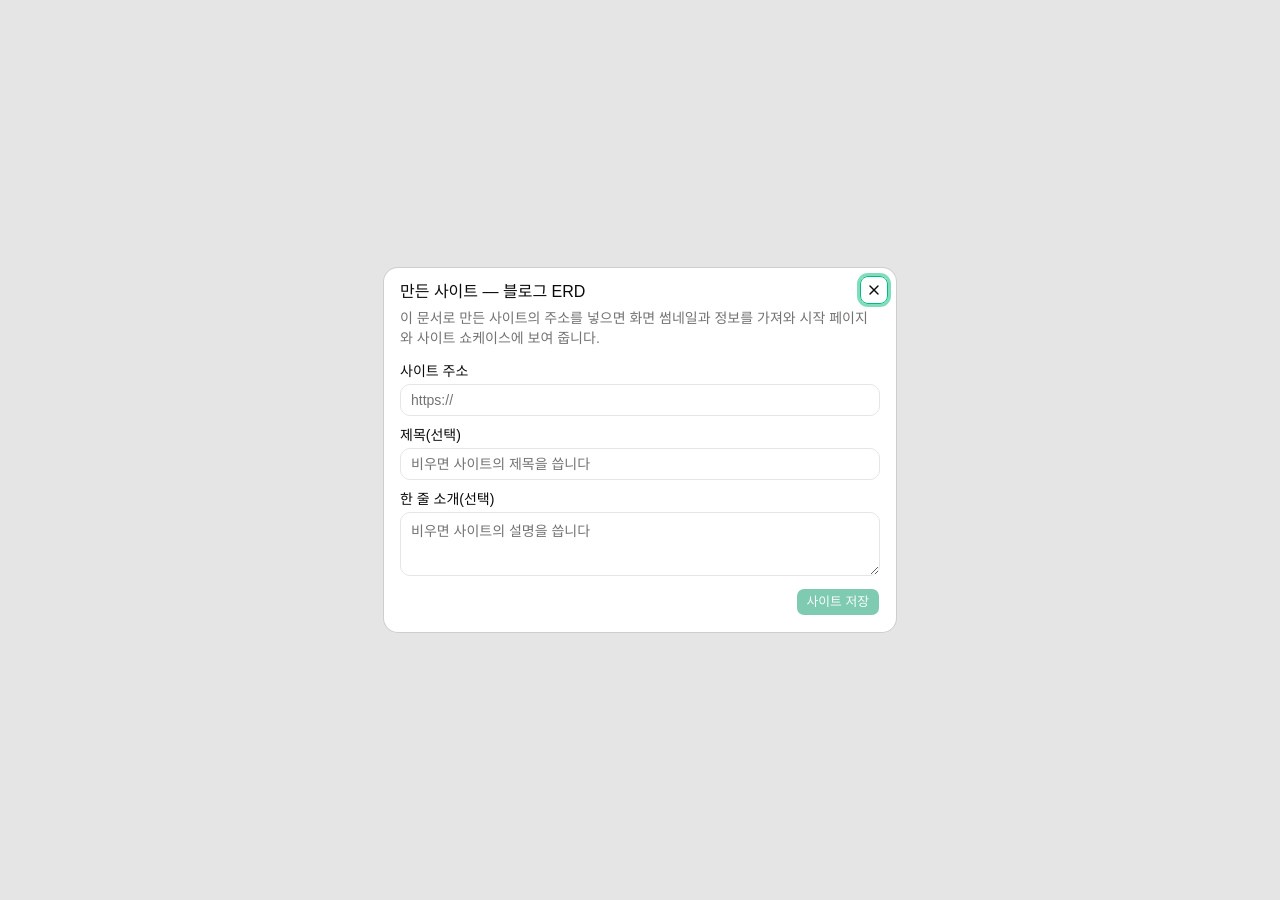
만든 사이트 칸 › 서버 입력 검증 오류(INVALID_REQUEST)는 짚은 칸에 붙인다
In the field labelled "사이트 주소": (640,400) [400, 384, 880, 416], type "https://blog.example.com"
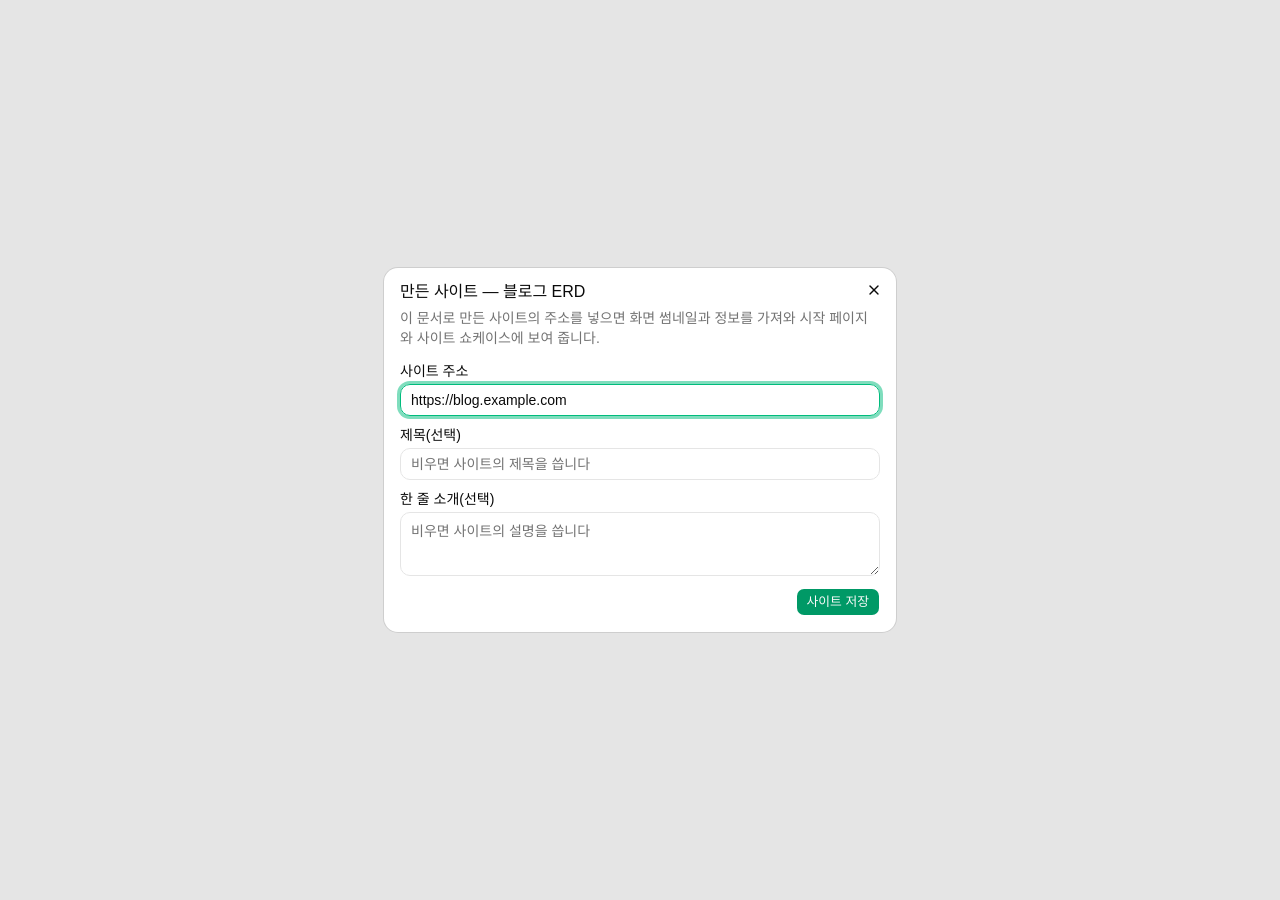
In the field labelled "제목(선택)": (640,464) [400, 448, 880, 480], type "제목"
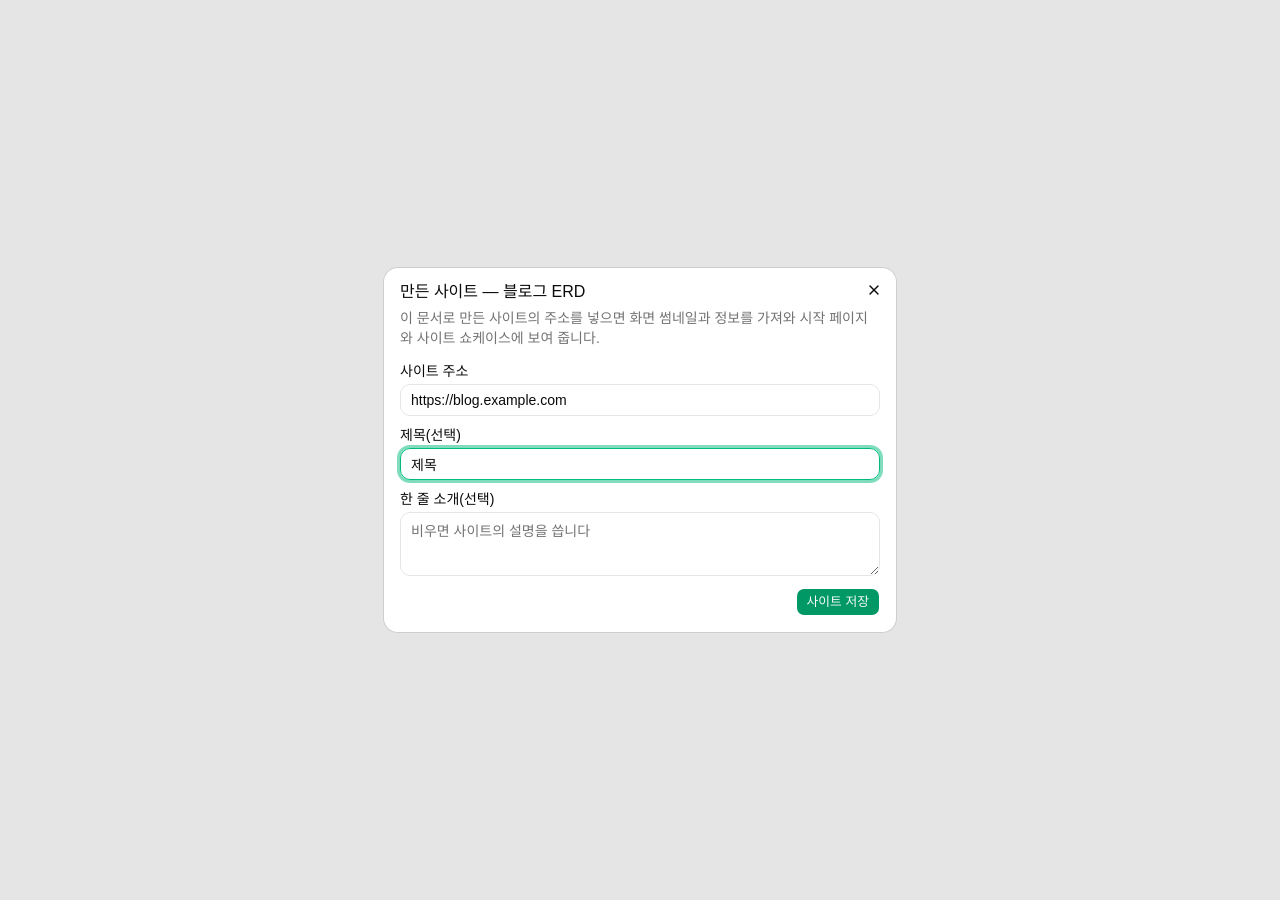
Click the button "사이트 저장": (838,602) [796, 588, 880, 616]
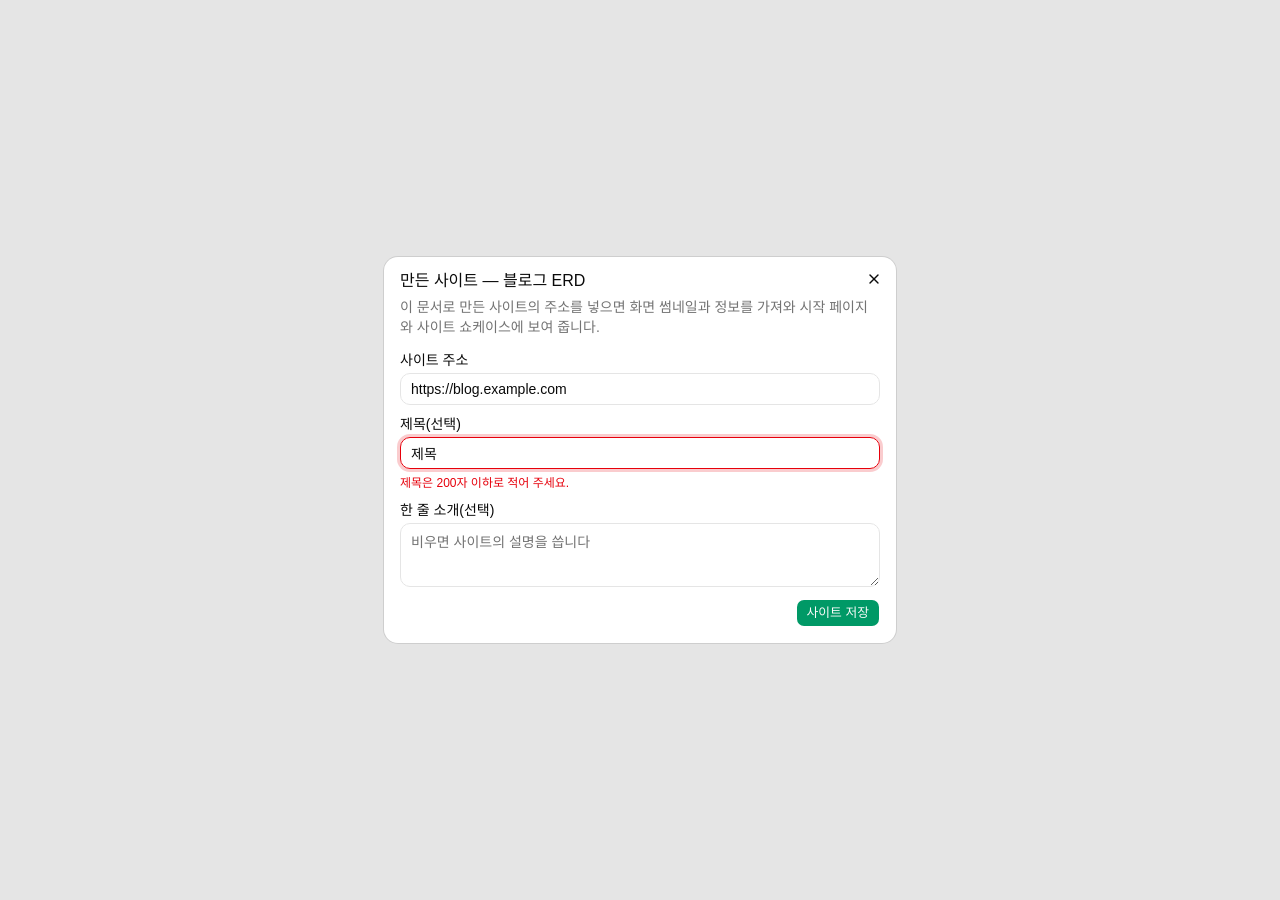
expect the text "제목은 200자 이하로 적어 주세요." is shown: met, box [400, 476, 569, 490]
